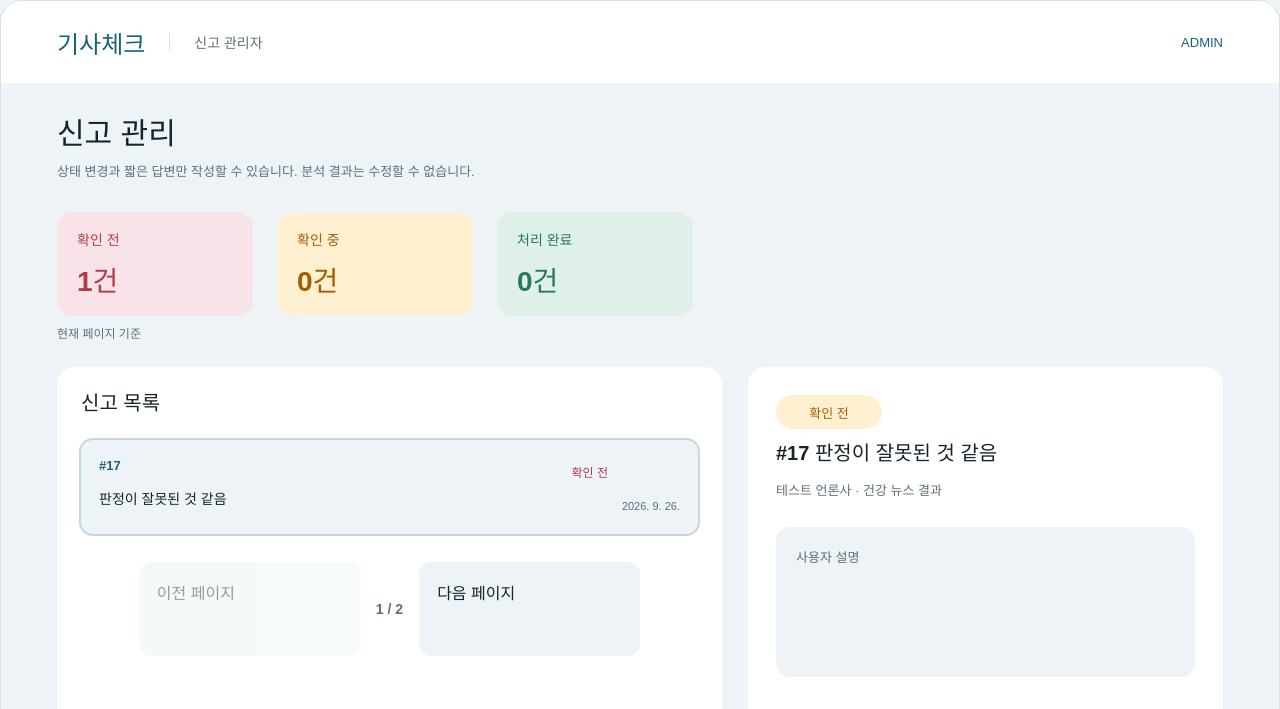
Test: AdminReportsPage API › 21번째 이후 신고로 페이지를 이동한다
expect the text "#17" is shown: met, box [99,458,121,473]
Click the button "다음 페이지": (530, 609) [419,562,640,656]
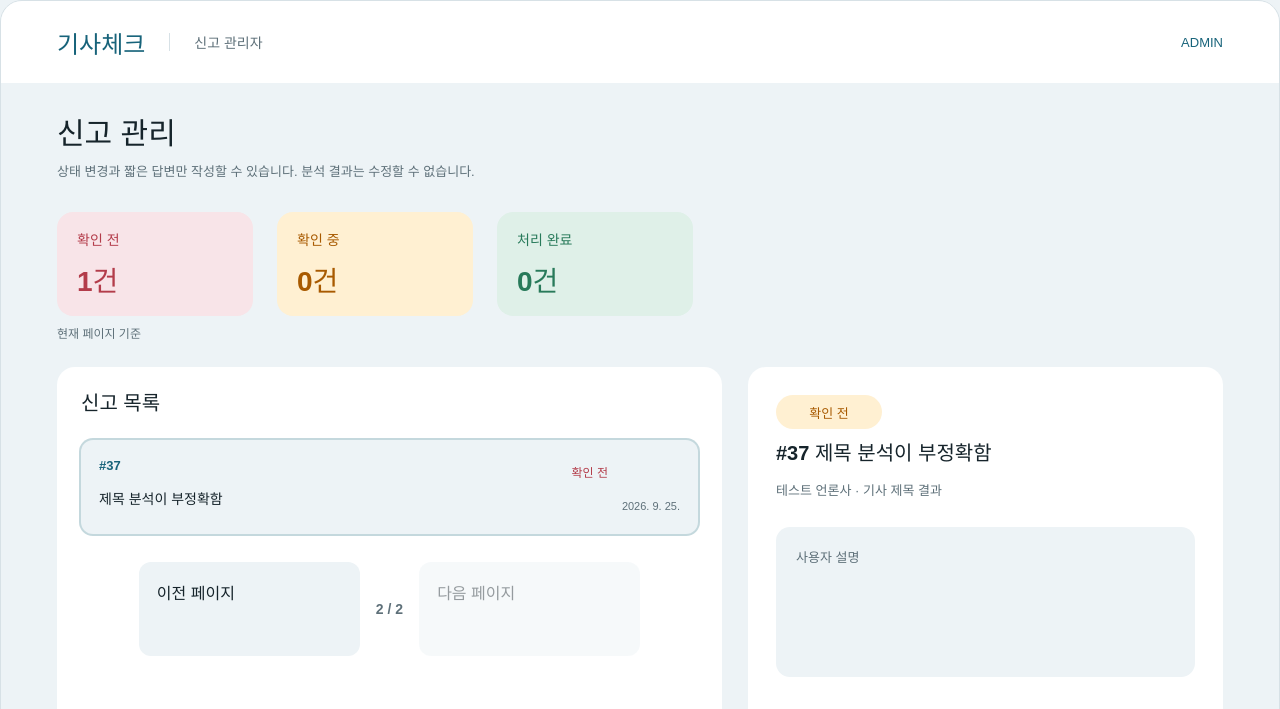
expect the text "#37" is shown: met, box [99,458,121,473]
